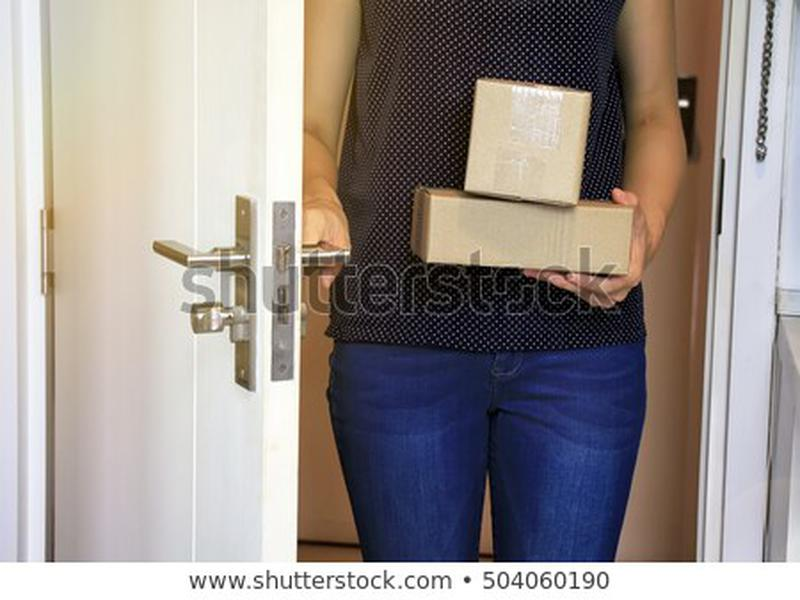package: (395, 177, 639, 282), (452, 63, 599, 213)
